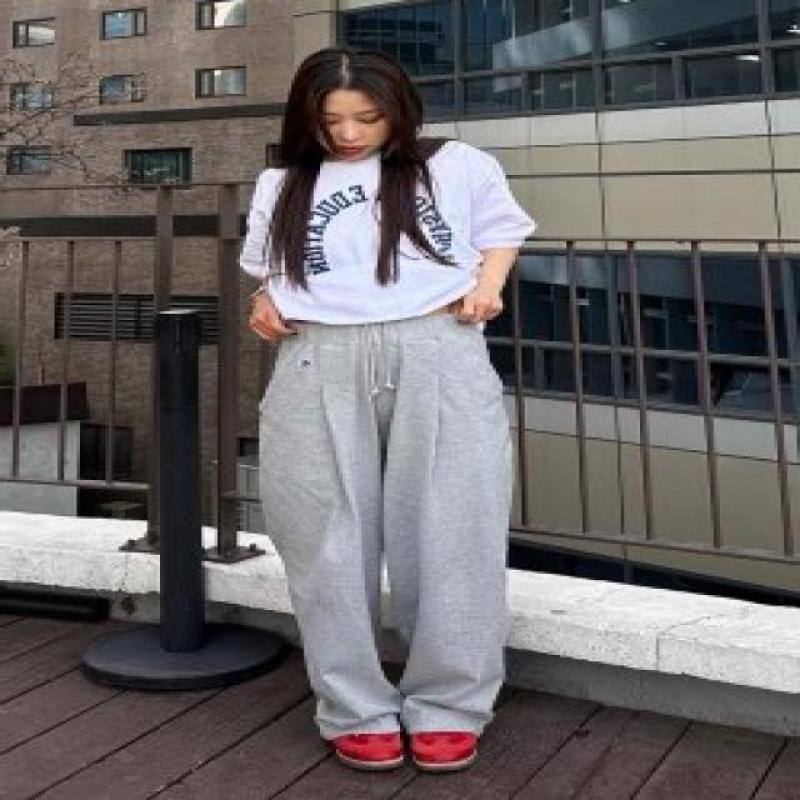short sleeve shirt: (238, 136, 540, 328)
trousers: (256, 309, 520, 747)
